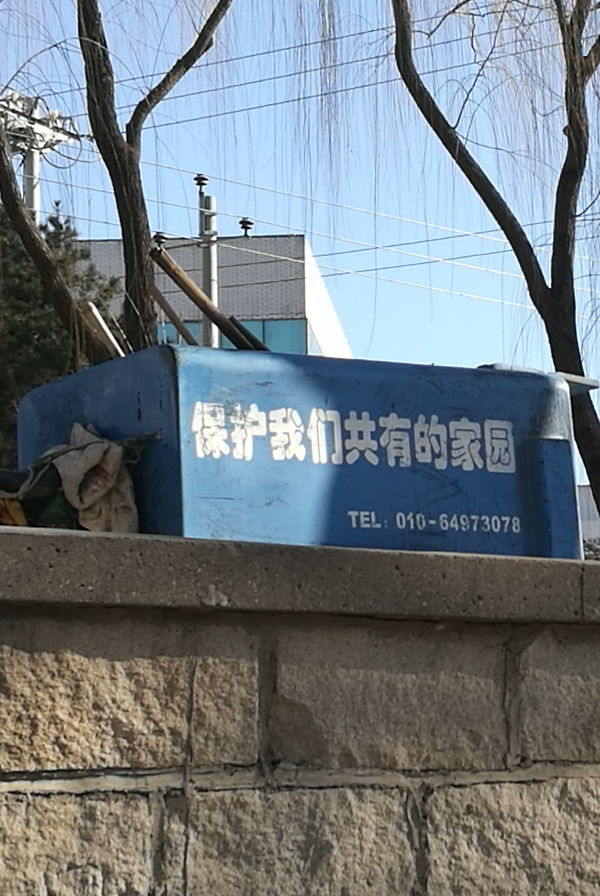text: (193, 401, 208, 474), (209, 401, 224, 474), (225, 401, 240, 474), (241, 401, 256, 474), (257, 401, 272, 474), (273, 401, 288, 474), (289, 401, 304, 474), (305, 401, 320, 474), (321, 401, 336, 474), (337, 401, 352, 474), (353, 401, 368, 474), (369, 401, 384, 474), (385, 401, 400, 474), (401, 401, 416, 474), (417, 401, 432, 474), (433, 401, 448, 474), (449, 401, 464, 474), (465, 401, 480, 474), (481, 401, 496, 474), (497, 401, 512, 474), (513, 401, 519, 474), (449, 513, 464, 534), (465, 513, 480, 534), (481, 513, 496, 534), (497, 513, 512, 534), (353, 510, 368, 530), (369, 510, 384, 530), (401, 511, 416, 531), (417, 511, 427, 531), (513, 513, 522, 534), (440, 513, 448, 534), (385, 510, 390, 530), (395, 511, 400, 531), (348, 510, 352, 530), (433, 519, 438, 525), (429, 519, 432, 525)
